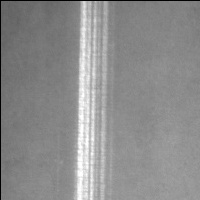scratches: (74, 1, 115, 200)
